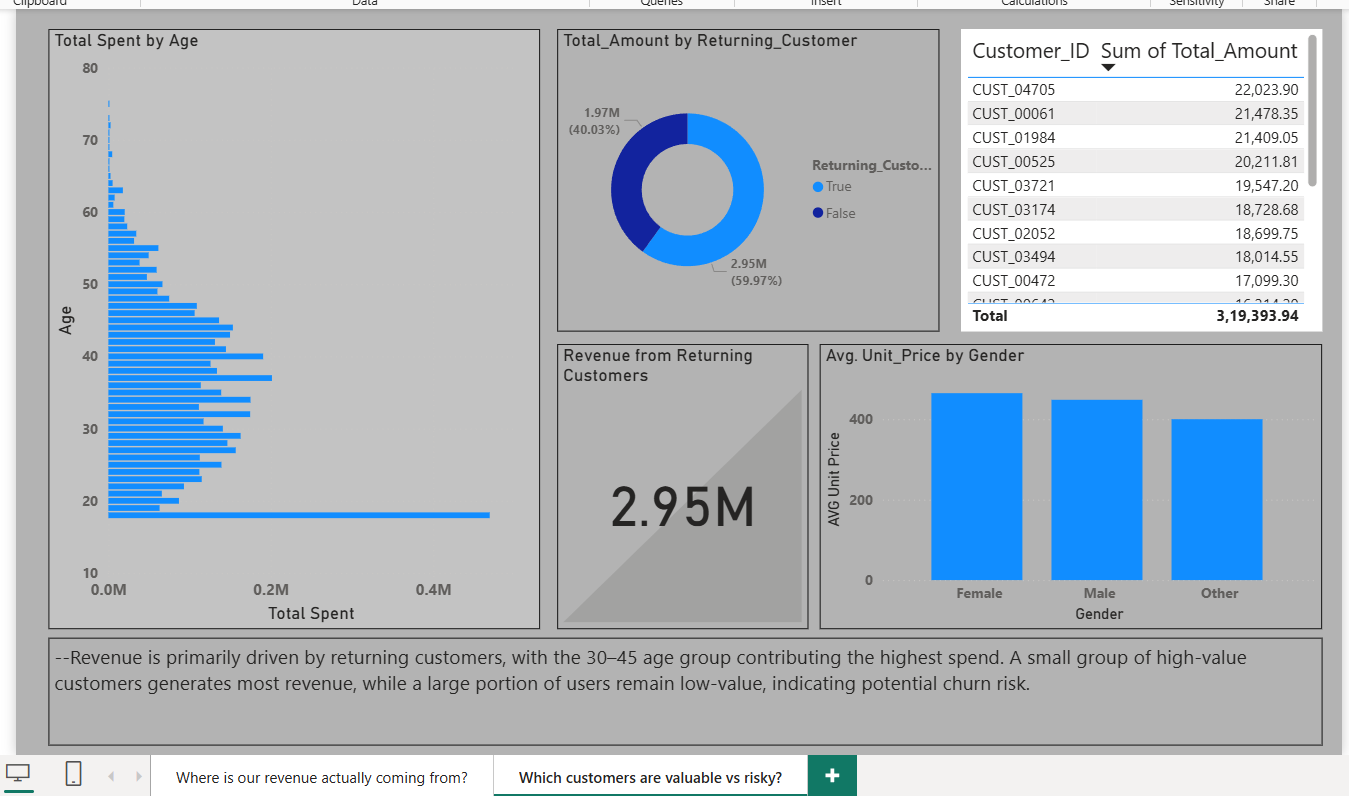

Layout of this report page (visuals, bound fields, positions):
{"tool":"powerbi","page":{"name":"Which customers are valuable vs risky?","canvas":[1280,720],"ordinal":1},"visuals":[{"type":"barChart","title":"Total Spent by Age","fields":{"Y":["Sum(Ecommerce.Total_Amount)"],"Category":["Ecommerce.Age Group"]},"box":[31.4,19.3,474.1,579.1],"z":0},{"type":"donutChart","title":"Total_Amount by Returning_Customer","fields":{"Y":["Sum(Ecommerce.Total_Amount)"],"Category":["Ecommerce.Is_Returning_Customer"]},"box":[522.4,19.3,369.2,292],"z":1000},{"type":"columnChart","title":"Avg. Unit_Price by Gender","fields":{"Y":["Avg(Ecommerce.Unit_Price)"],"Category":["Ecommerce.Gender"]},"box":[775.7,323.3,485,275.1],"z":2000},{"type":"tableEx","fields":{"Values":["Ecommerce.Customer_ID","Sum(Ecommerce.Total_Amount)"]},"box":[912.1,19.3,348.7,292],"z":3000},{"type":"textbox","box":[31.4,606.8,1229.4,103.8],"z":4000},{"type":"kpi","title":"Revenue from Returning Customers","fields":{"Indicator":["Sum(Ecommerce.Total_Amount)"],"TrendLine":["Ecommerce.Is_Returning_Customer"]},"box":[522.4,323.3,242.5,275.1],"z":5000}]}

Visuals, with their boxes in screenshot pixels (x1, y1, x2, y2):
"Total Spent by Age" barChart: x1=43 y1=27 x2=536 y2=629
"Total_Amount by Returning_Customer" donutChart: x1=553 y1=27 x2=937 y2=331
"Avg. Unit_Price by Gender" columnChart: x1=817 y1=343 x2=1321 y2=629
tableEx - Ecommerce.Customer_ID x Sum(Ecommerce.Total_Amount): x1=959 y1=27 x2=1321 y2=331
textbox: x1=43 y1=638 x2=1321 y2=746
"Revenue from Returning Customers" kpi: x1=553 y1=343 x2=806 y2=629
